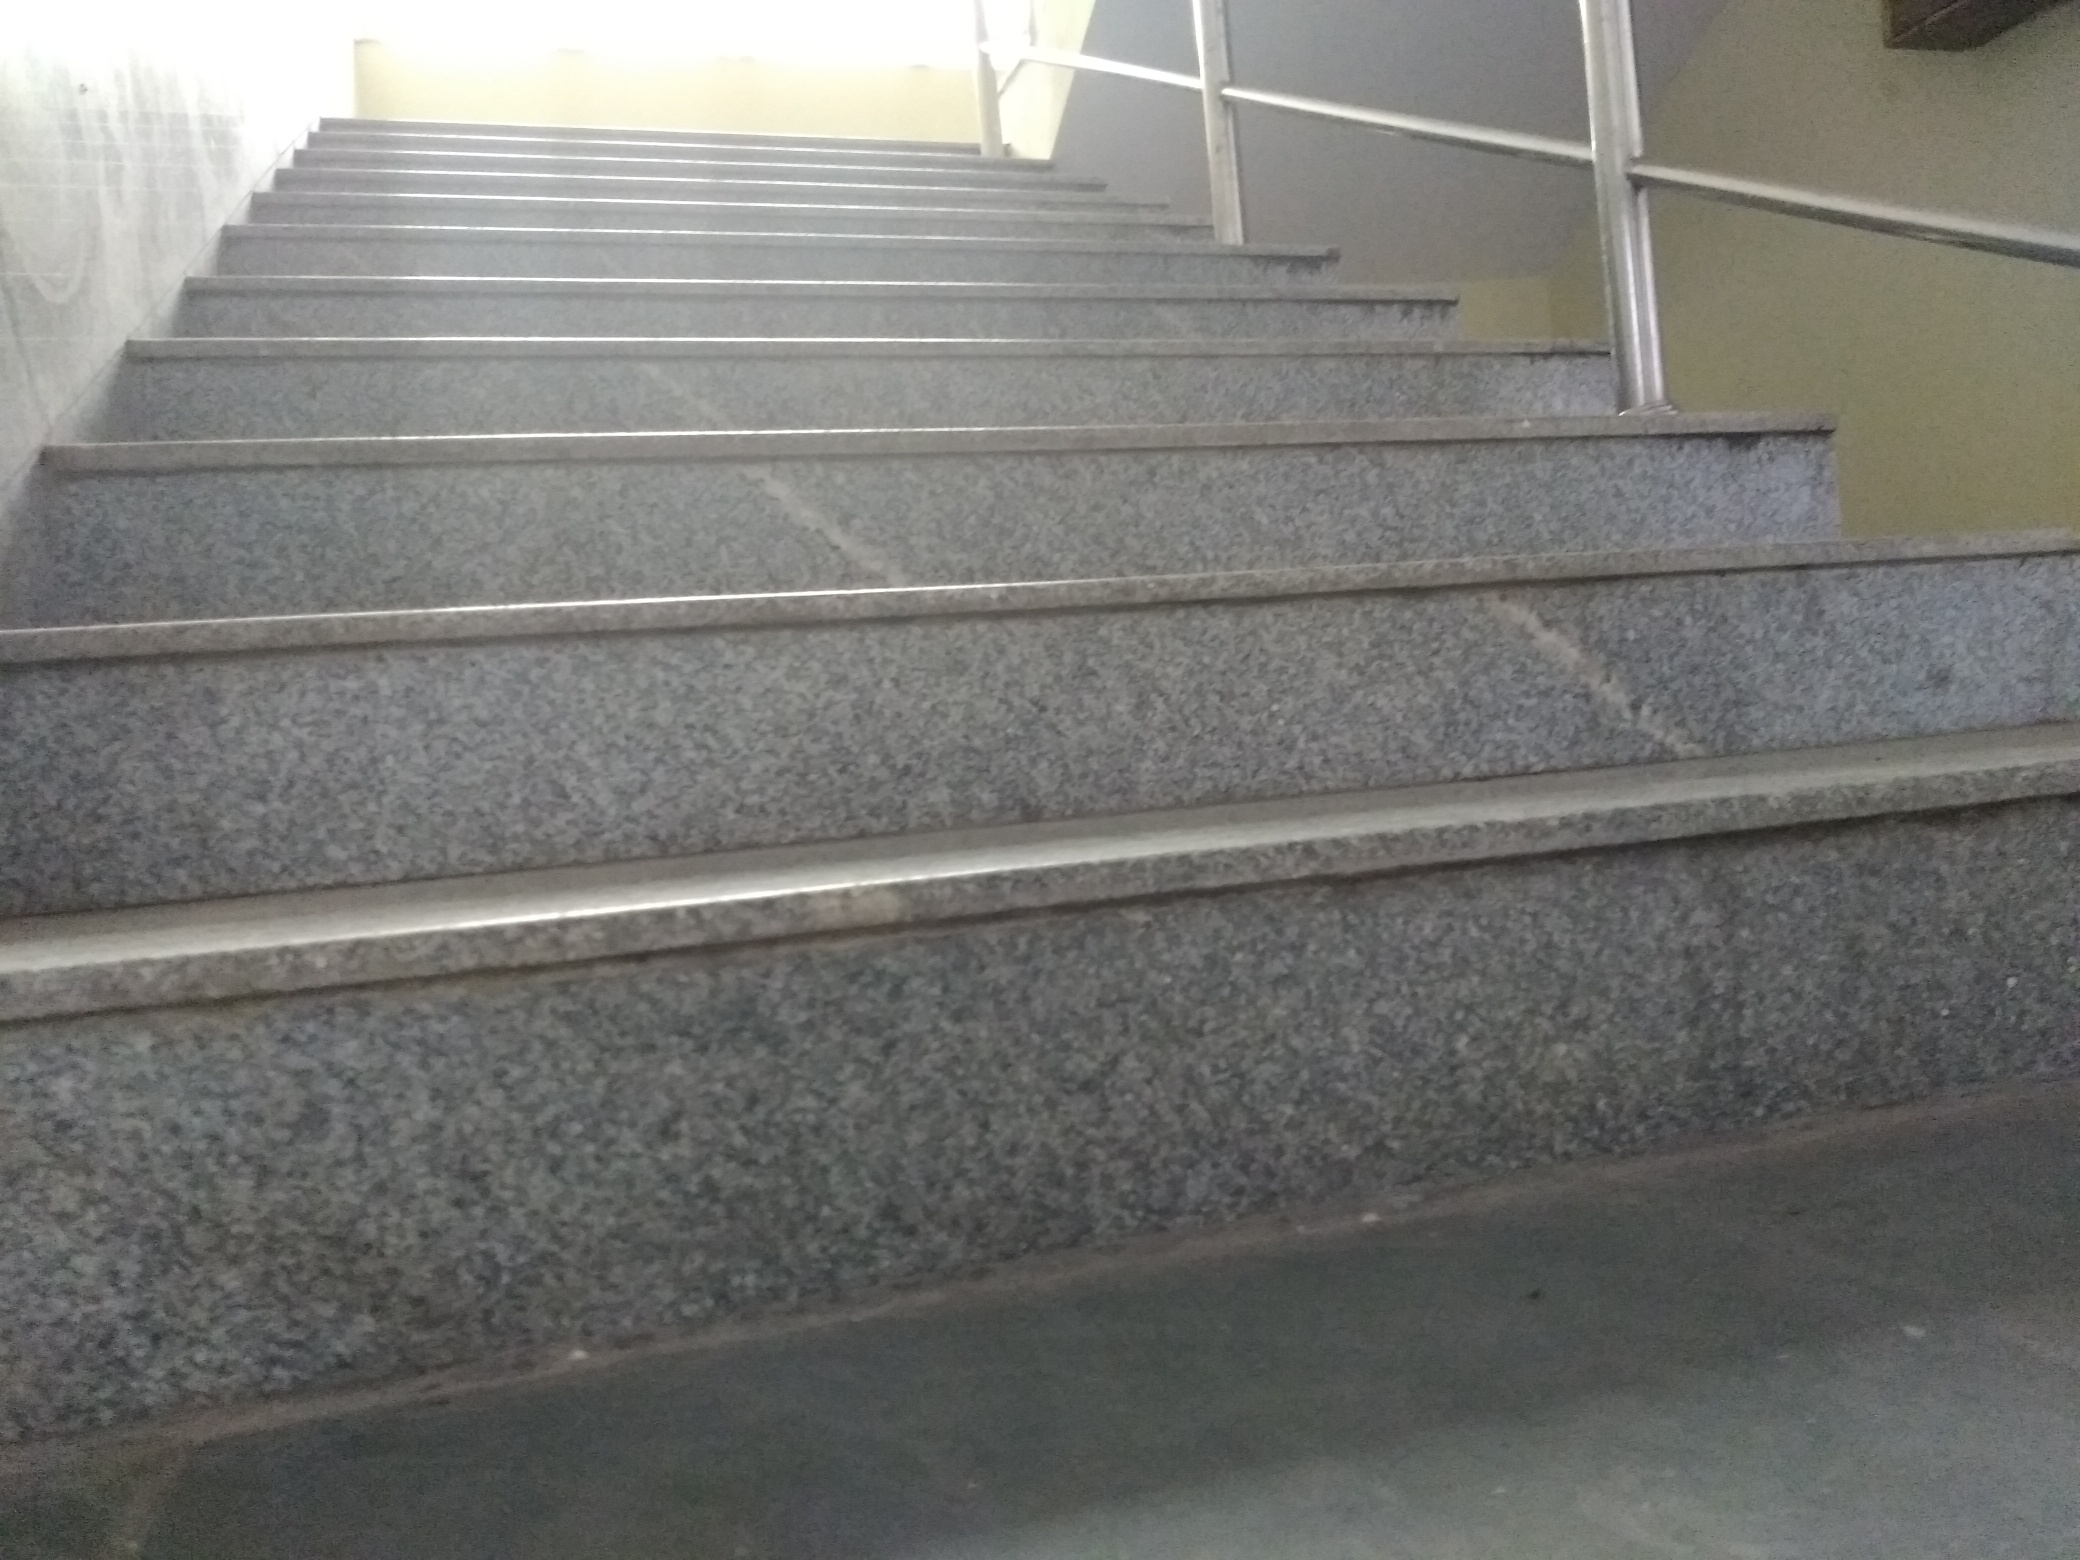stairs_up: (29, 136, 1938, 1265)
